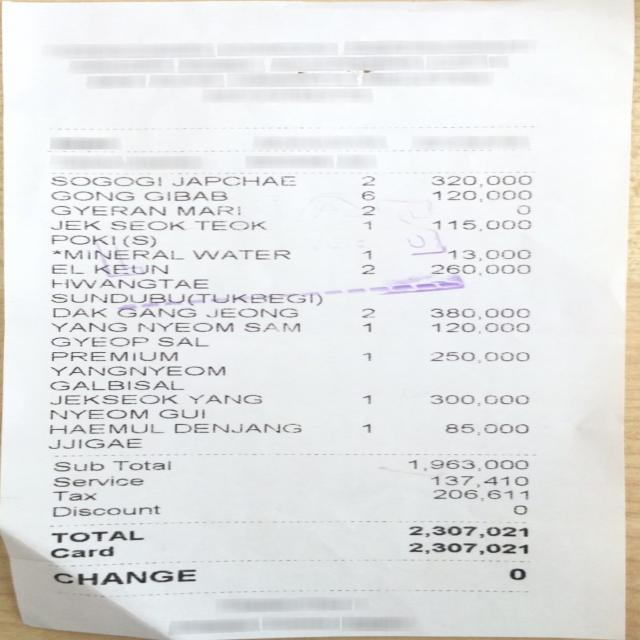text: (48, 293, 320, 306), (51, 568, 194, 585), (49, 365, 222, 374), (51, 249, 183, 260), (407, 526, 525, 538), (408, 542, 525, 554), (50, 278, 205, 287), (173, 422, 299, 433), (51, 504, 158, 516), (48, 394, 173, 404), (432, 488, 527, 501), (50, 176, 161, 187), (51, 350, 173, 360), (430, 174, 529, 186), (48, 380, 180, 389), (407, 460, 525, 470), (431, 264, 528, 276), (46, 408, 148, 419), (48, 422, 160, 432), (49, 530, 140, 542), (192, 249, 290, 260), (431, 219, 528, 230), (429, 351, 526, 362), (429, 394, 526, 405), (429, 475, 525, 486), (444, 248, 529, 260), (429, 308, 528, 318), (47, 437, 137, 448), (172, 176, 294, 184), (431, 190, 528, 200), (431, 322, 526, 332), (50, 336, 145, 346), (445, 423, 526, 434), (50, 206, 161, 214), (51, 476, 139, 486), (115, 306, 193, 317), (137, 322, 231, 331), (204, 308, 296, 317), (49, 190, 130, 200), (48, 546, 112, 558), (192, 220, 266, 230), (143, 191, 224, 200), (92, 263, 164, 273), (48, 322, 124, 331), (175, 206, 242, 216), (187, 394, 260, 403), (110, 220, 182, 229), (49, 235, 112, 244), (112, 460, 166, 470), (156, 336, 208, 346), (51, 461, 101, 471), (243, 322, 298, 331), (156, 408, 202, 418), (49, 220, 98, 229), (51, 308, 105, 316), (51, 490, 94, 500), (122, 235, 154, 246), (50, 263, 82, 273), (509, 504, 526, 515), (359, 308, 374, 319), (358, 204, 374, 214), (514, 204, 528, 214), (360, 263, 373, 273), (360, 190, 372, 200), (360, 250, 372, 260), (361, 322, 371, 333), (361, 423, 371, 434), (360, 176, 372, 185), (360, 221, 372, 230), (361, 352, 371, 361), (360, 394, 368, 403)
